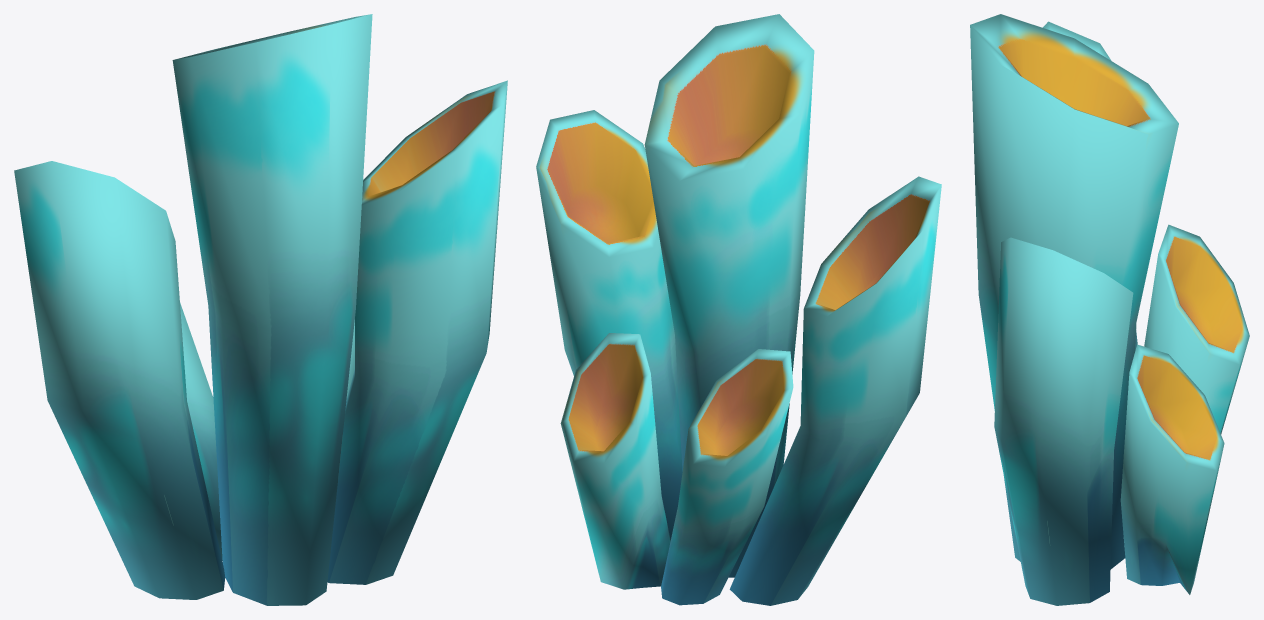
The model's file is 3d_coral_blue.glb.
3 views of the same model, side by side, from view 1: azimuth 30°, elevation 25°; view 2: azimuth 150°, elevation 25°; view 3: azimuth 270°, elevation 25° (orthographic). The views are drawn at different scales.
Visible parts, largest first — view 1: Cylinder, Cylinder.002, Cylinder.001, Cylinder.003; view 2: Cylinder, Cylinder.002, Cylinder.001, Cylinder.003, Cylinder.004; view 3: Cylinder, Cylinder.001, Cylinder.004, Cylinder.003, Cylinder.002.
Boxes of the visible parts, <box> form: Cylinder: <box>172,14,372,605</box>; Cylinder.002: <box>14,161,225,599</box>; Cylinder.001: <box>327,80,507,584</box>; Cylinder.003: <box>180,302,222,560</box>; Cylinder: <box>644,14,814,577</box>; Cylinder.002: <box>729,176,941,605</box>; Cylinder.001: <box>536,110,682,539</box>; Cylinder.003: <box>661,349,793,605</box>; Cylinder.004: <box>560,333,670,589</box>; Cylinder: <box>970,14,1178,569</box>; Cylinder.001: <box>994,237,1133,605</box>; Cylinder.004: <box>1120,344,1224,594</box>; Cylinder.003: <box>1144,224,1249,434</box>; Cylinder.002: <box>1042,21,1137,350</box>.
Bounding box in the file's own units: 0.2196 × 0.2692 × 0.1281.
Materials: 1 (1 with a texture image).
